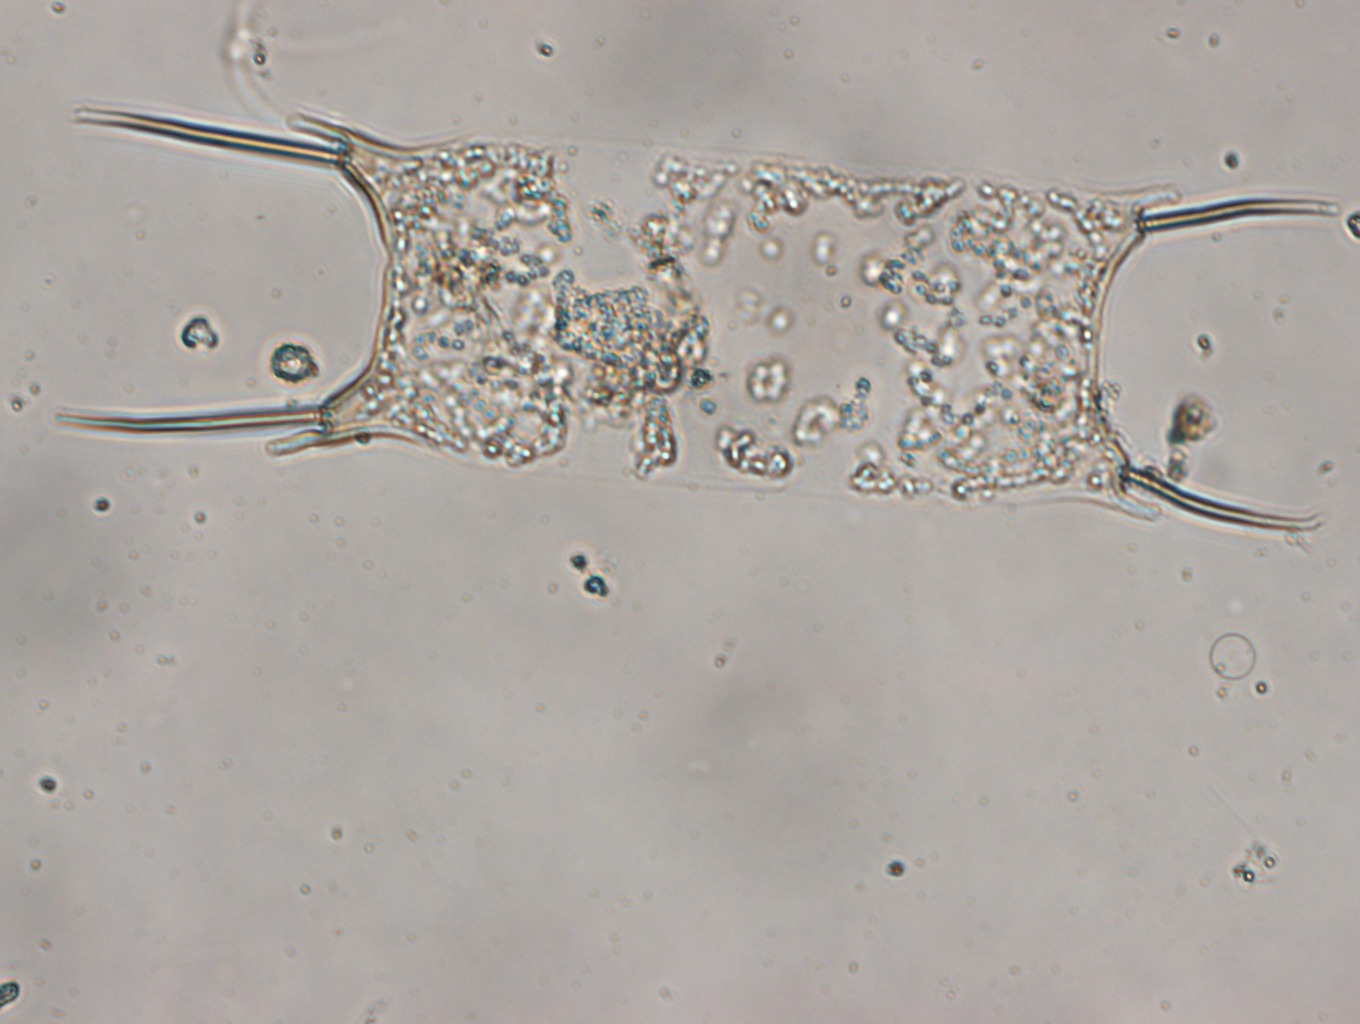biddulphia: (47, 95, 1338, 534)
